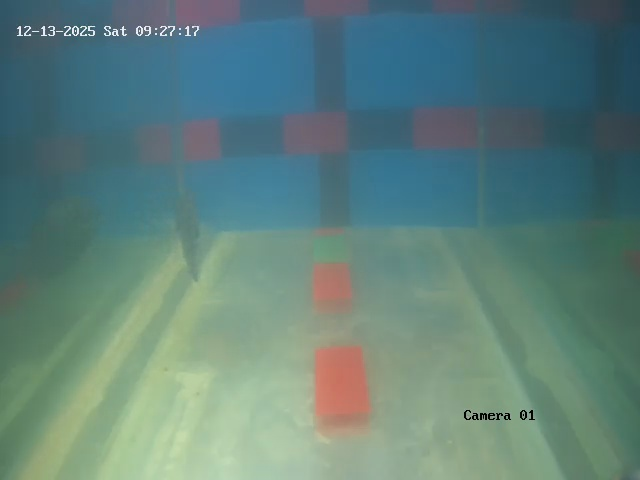fish: (164, 190, 215, 280)
